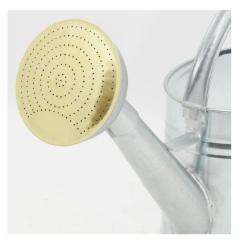ARROSOIR: (12, 10, 231, 233)
